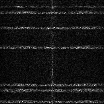wifi: (1, 4, 104, 7), (1, 11, 104, 14), (1, 26, 104, 29), (1, 45, 104, 48), (1, 83, 104, 86), (1, 88, 104, 91), (1, 100, 104, 103)
